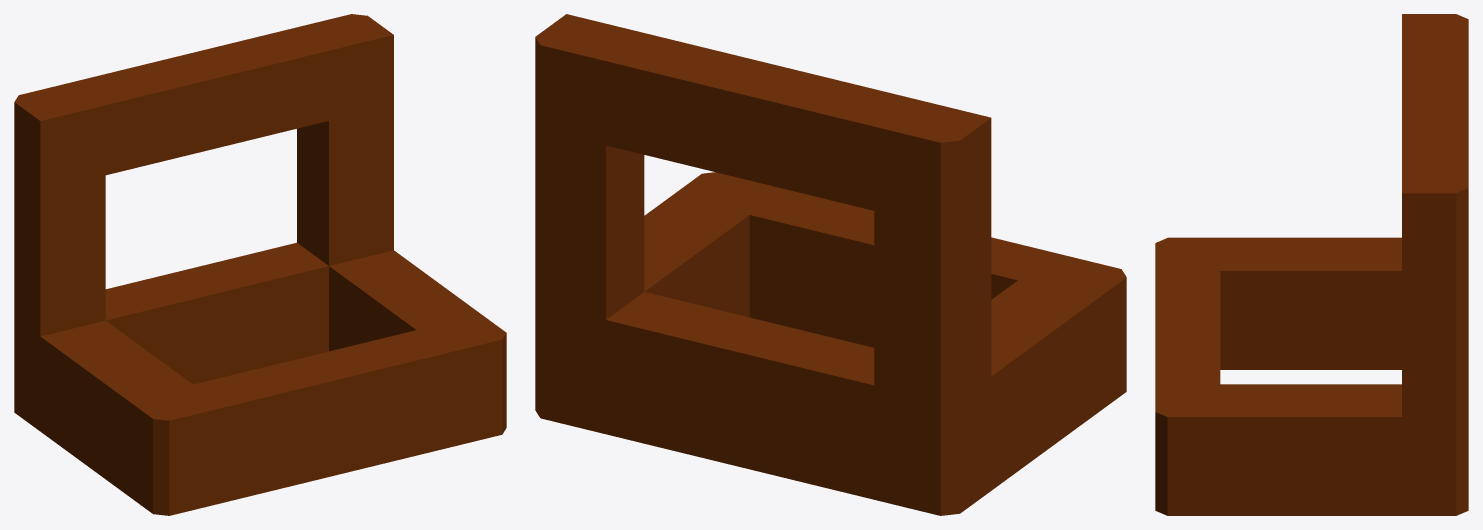
Rendered from shop.fbx.
The picture shows the model from 3 angles, left to right: view 1: azimuth 30°, elevation 25°; view 2: azimuth 150°, elevation 25°; view 3: azimuth 270°, elevation 25°; orthographic projection. The views are drawn at different scales.
Visible parts, largest first — view 1: shop; view 2: shop; view 3: shop.
Part boxes in pixels (<box>): shop: <box>14,14,506,515</box>; shop: <box>535,14,1126,515</box>; shop: <box>1155,14,1468,515</box>.
Size of the model in its own units: 3.44 by 2.88 by 2.54.
